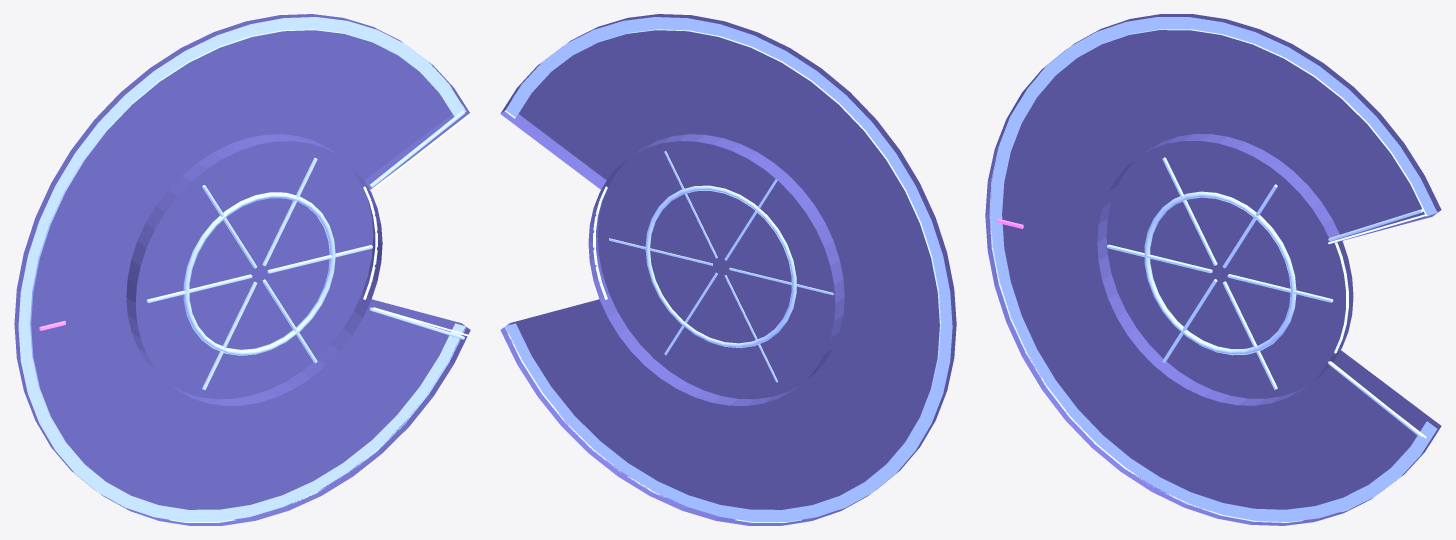
Rendered from prism-panel-fun7-medium.glb.
3 views of the same model, side by side, from view 1: azimuth 30°, elevation 25°; view 2: azimuth 150°, elevation 25°; view 3: azimuth 330°, elevation 25° (orthographic).
Visible parts, largest first — view 1: RENDER_PANEL_SHELL, RENDER_PANEL_FRAME, RENDER_PANEL_SIGNAL; view 2: RENDER_PANEL_SHELL, RENDER_PANEL_FRAME; view 3: RENDER_PANEL_SHELL, RENDER_PANEL_FRAME, RENDER_PANEL_SIGNAL.
Part boxes in pixels (<box>): RENDER_PANEL_SHELL: <box>14,14,470,525</box>; RENDER_PANEL_FRAME: <box>18,17,466,522</box>; RENDER_PANEL_SIGNAL: <box>363,113,471,337</box>; RENDER_PANEL_SHELL: <box>500,14,956,525</box>; RENDER_PANEL_FRAME: <box>504,17,952,522</box>; RENDER_PANEL_SHELL: <box>985,14,1441,525</box>; RENDER_PANEL_FRAME: <box>989,17,1437,522</box>; RENDER_PANEL_SIGNAL: <box>1328,214,1426,438</box>.
Size of what is drawn, in the model's own units: 38.93 by 41 by 1.95.
